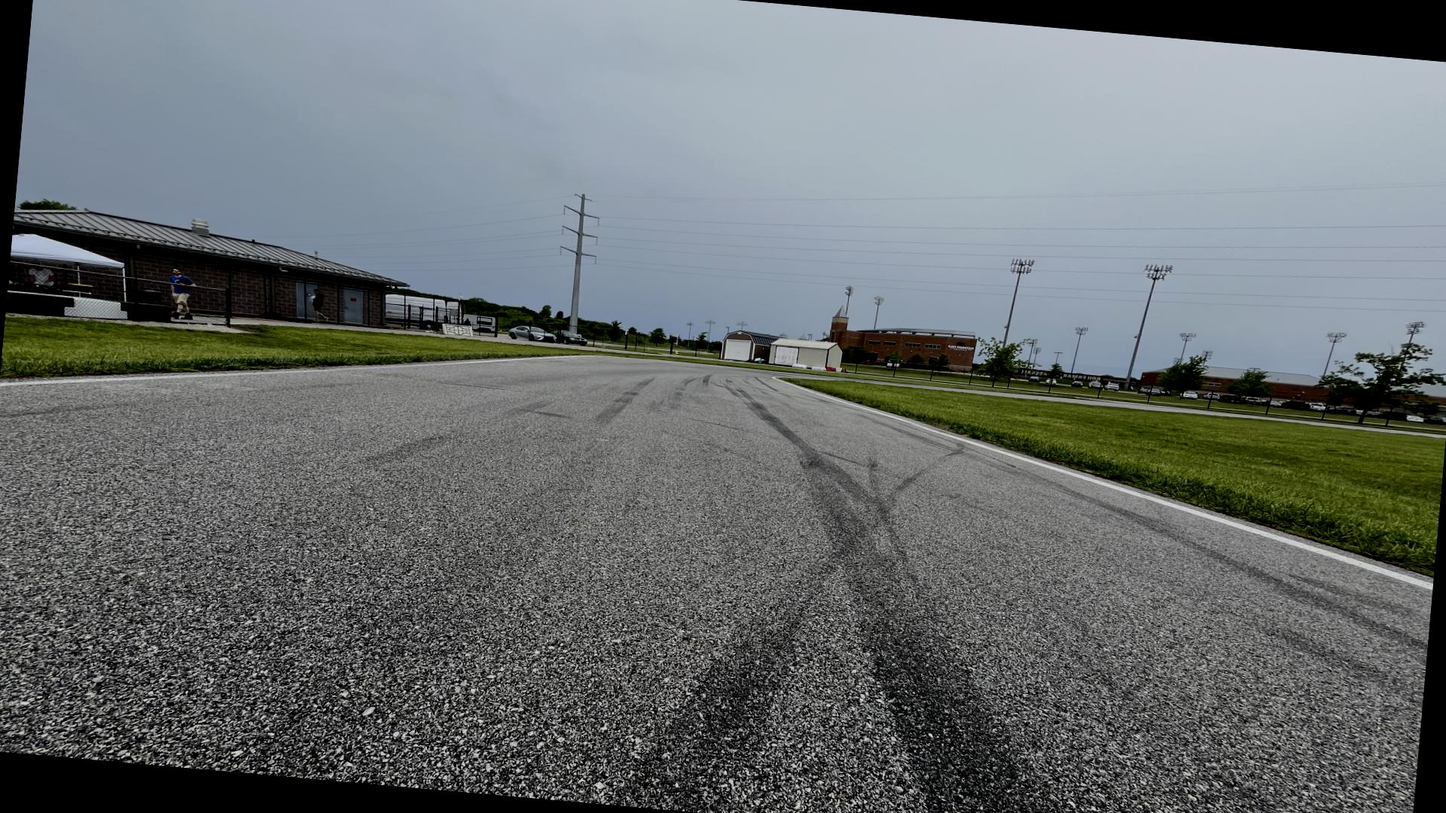white-line: (771, 375, 1432, 593), (0, 354, 642, 387), (542, 358, 545, 360)
